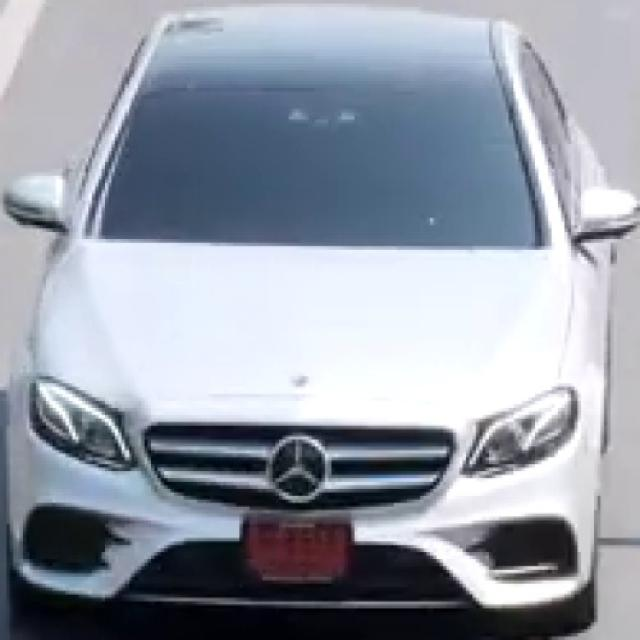plate: (242, 516, 354, 585)
